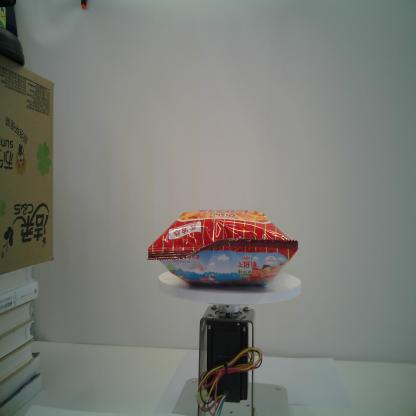Puffed Food: (147, 209, 299, 288)
